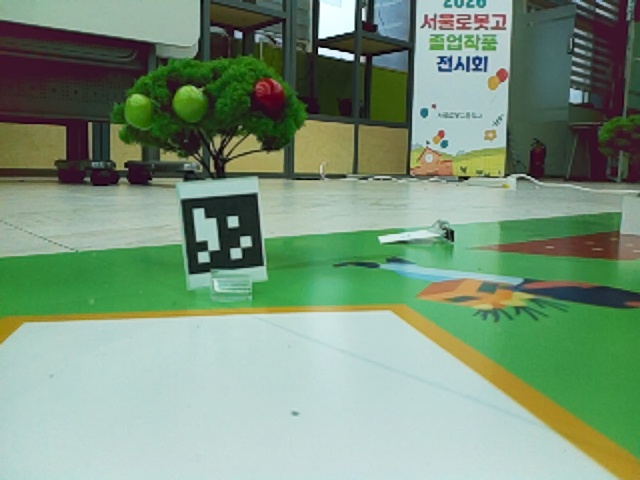apple: (247, 74, 292, 125)
